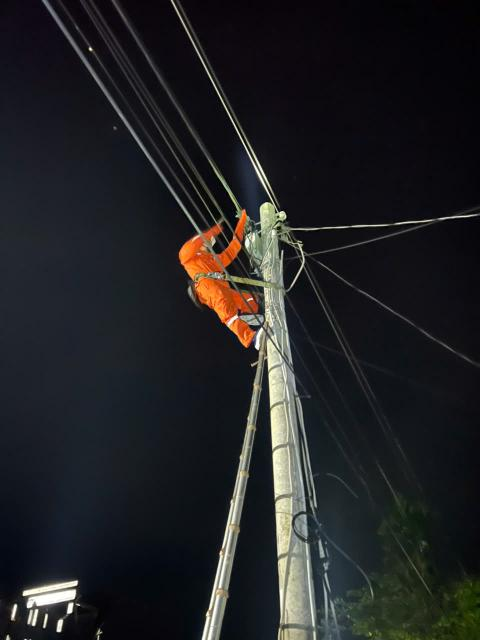harness: (187, 267, 247, 289)
helmet: (193, 228, 221, 247)
shoes: (235, 308, 275, 327), (248, 325, 271, 352)
